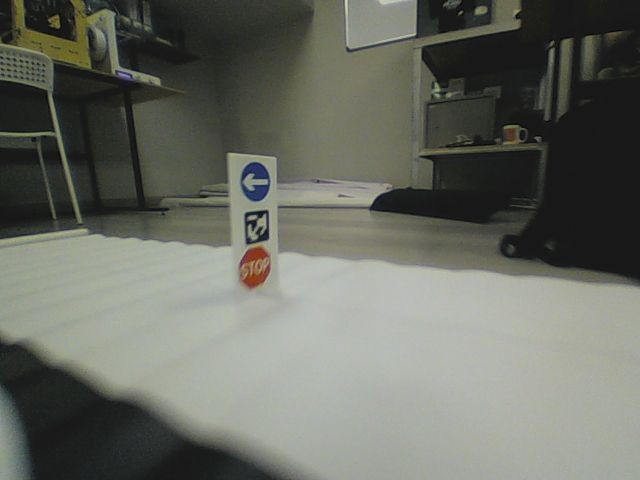Stop: (236, 245, 272, 290)
